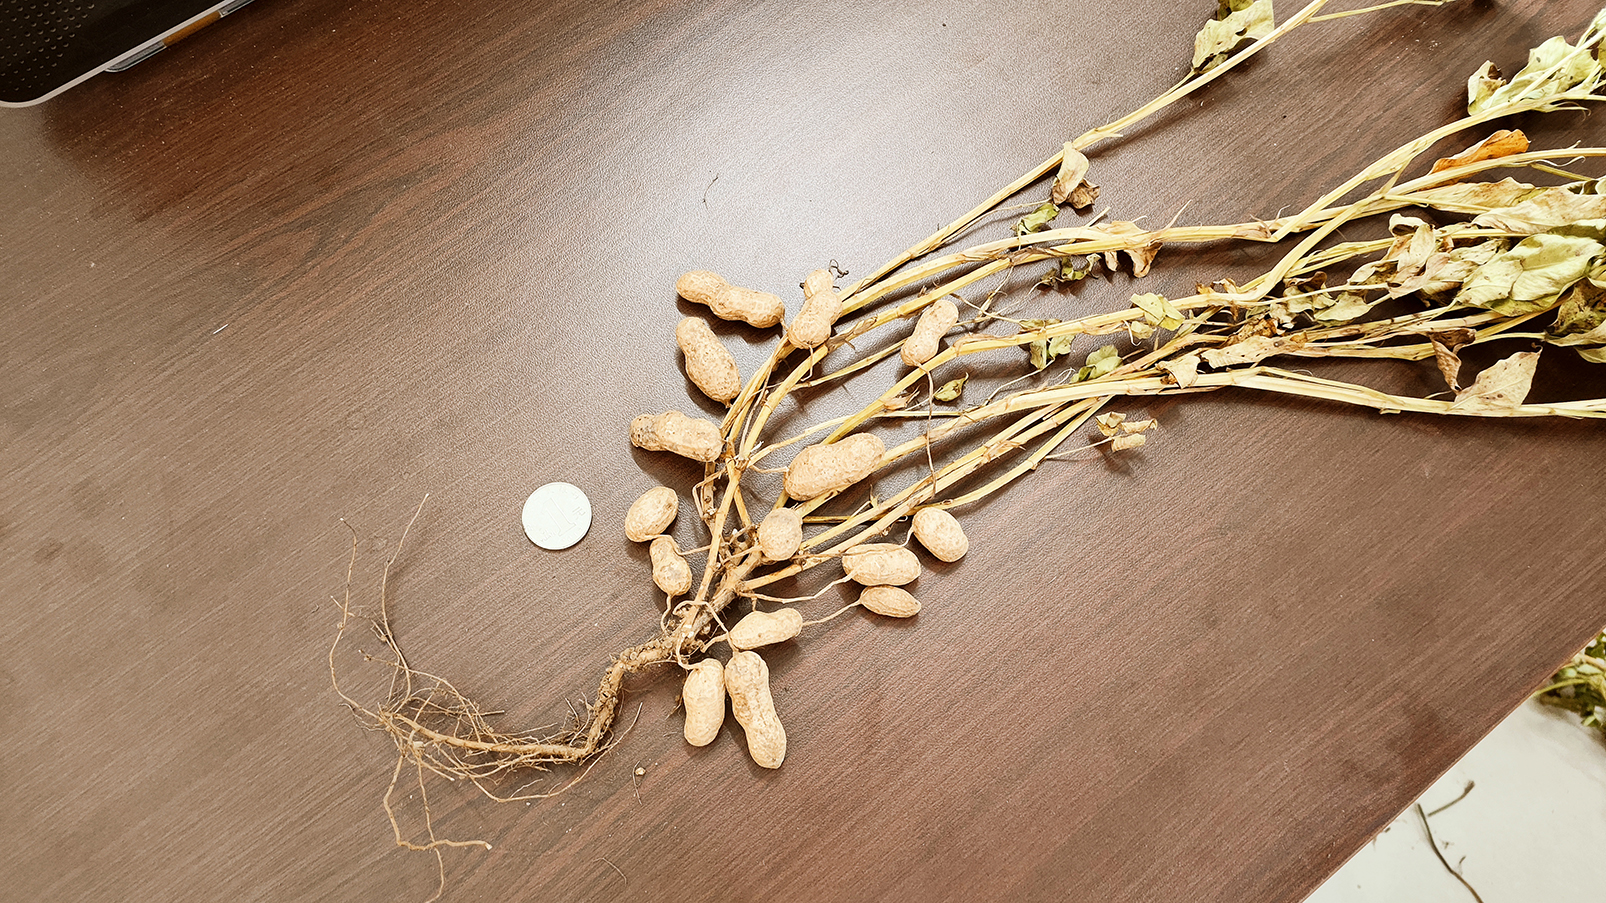h: (725, 651, 789, 768), (783, 433, 887, 501), (675, 267, 784, 327), (675, 316, 740, 402), (786, 268, 843, 350), (629, 410, 720, 460), (679, 657, 725, 748), (901, 297, 959, 366), (911, 505, 968, 566), (841, 542, 919, 585), (625, 484, 679, 544), (728, 608, 804, 648), (647, 536, 694, 595), (758, 507, 804, 560), (861, 584, 922, 619)
